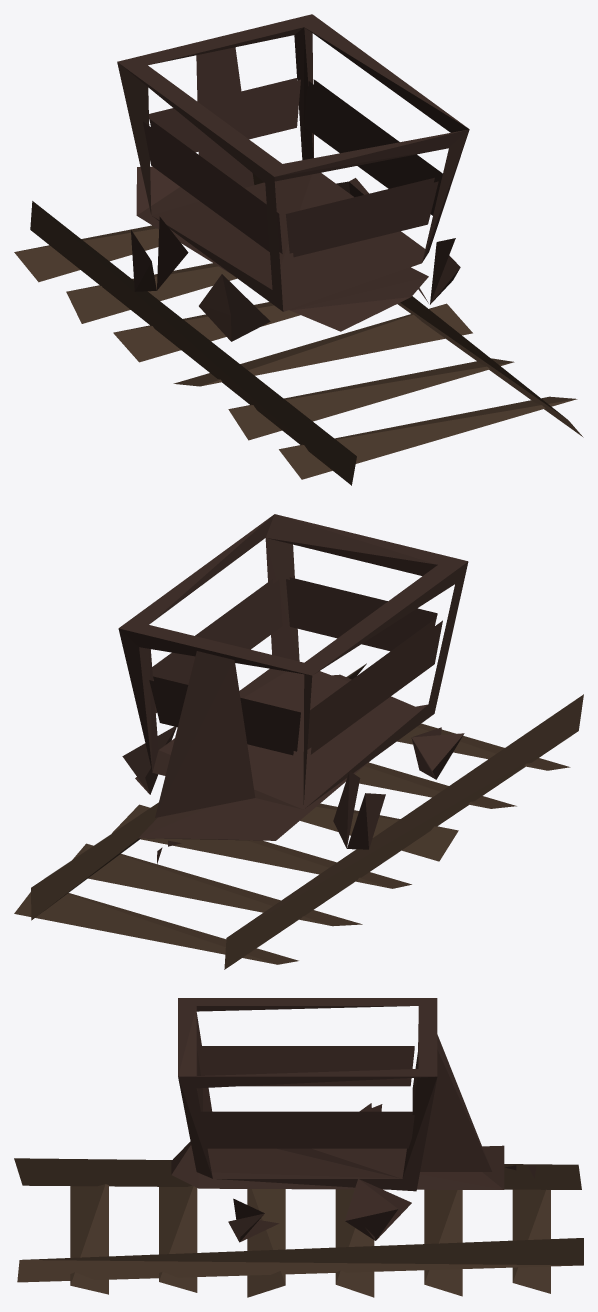
File: mine-cart.lod2.glb
3 views of the same model, one above another, from view 1: azimuth 30°, elevation 25°; view 2: azimuth 150°, elevation 25°; view 3: azimuth 270°, elevation 25° (orthographic). The views are drawn at different scales.
Parts seen in each view (by area): view 1: defaultMaterial; view 2: defaultMaterial; view 3: defaultMaterial.
Part boxes in pixels (<box>): defaultMaterial: <box>14,14,583,485</box>; defaultMaterial: <box>14,514,583,969</box>; defaultMaterial: <box>14,998,583,1297</box>.
Bounding box in the file's own units: 1.04 × 0.8635 × 2.2.
